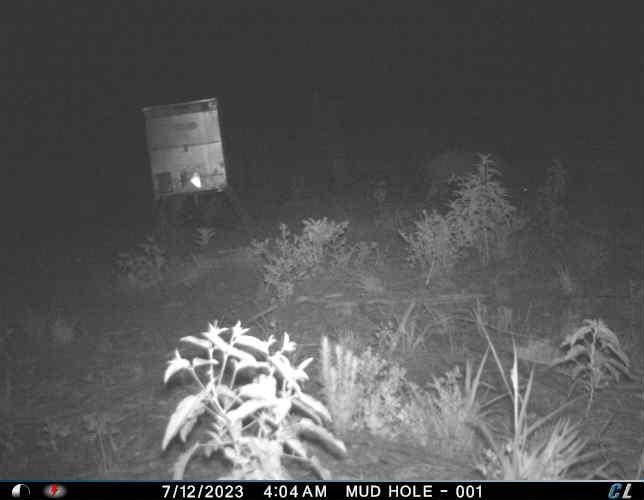Hog: (419, 146, 527, 203)
